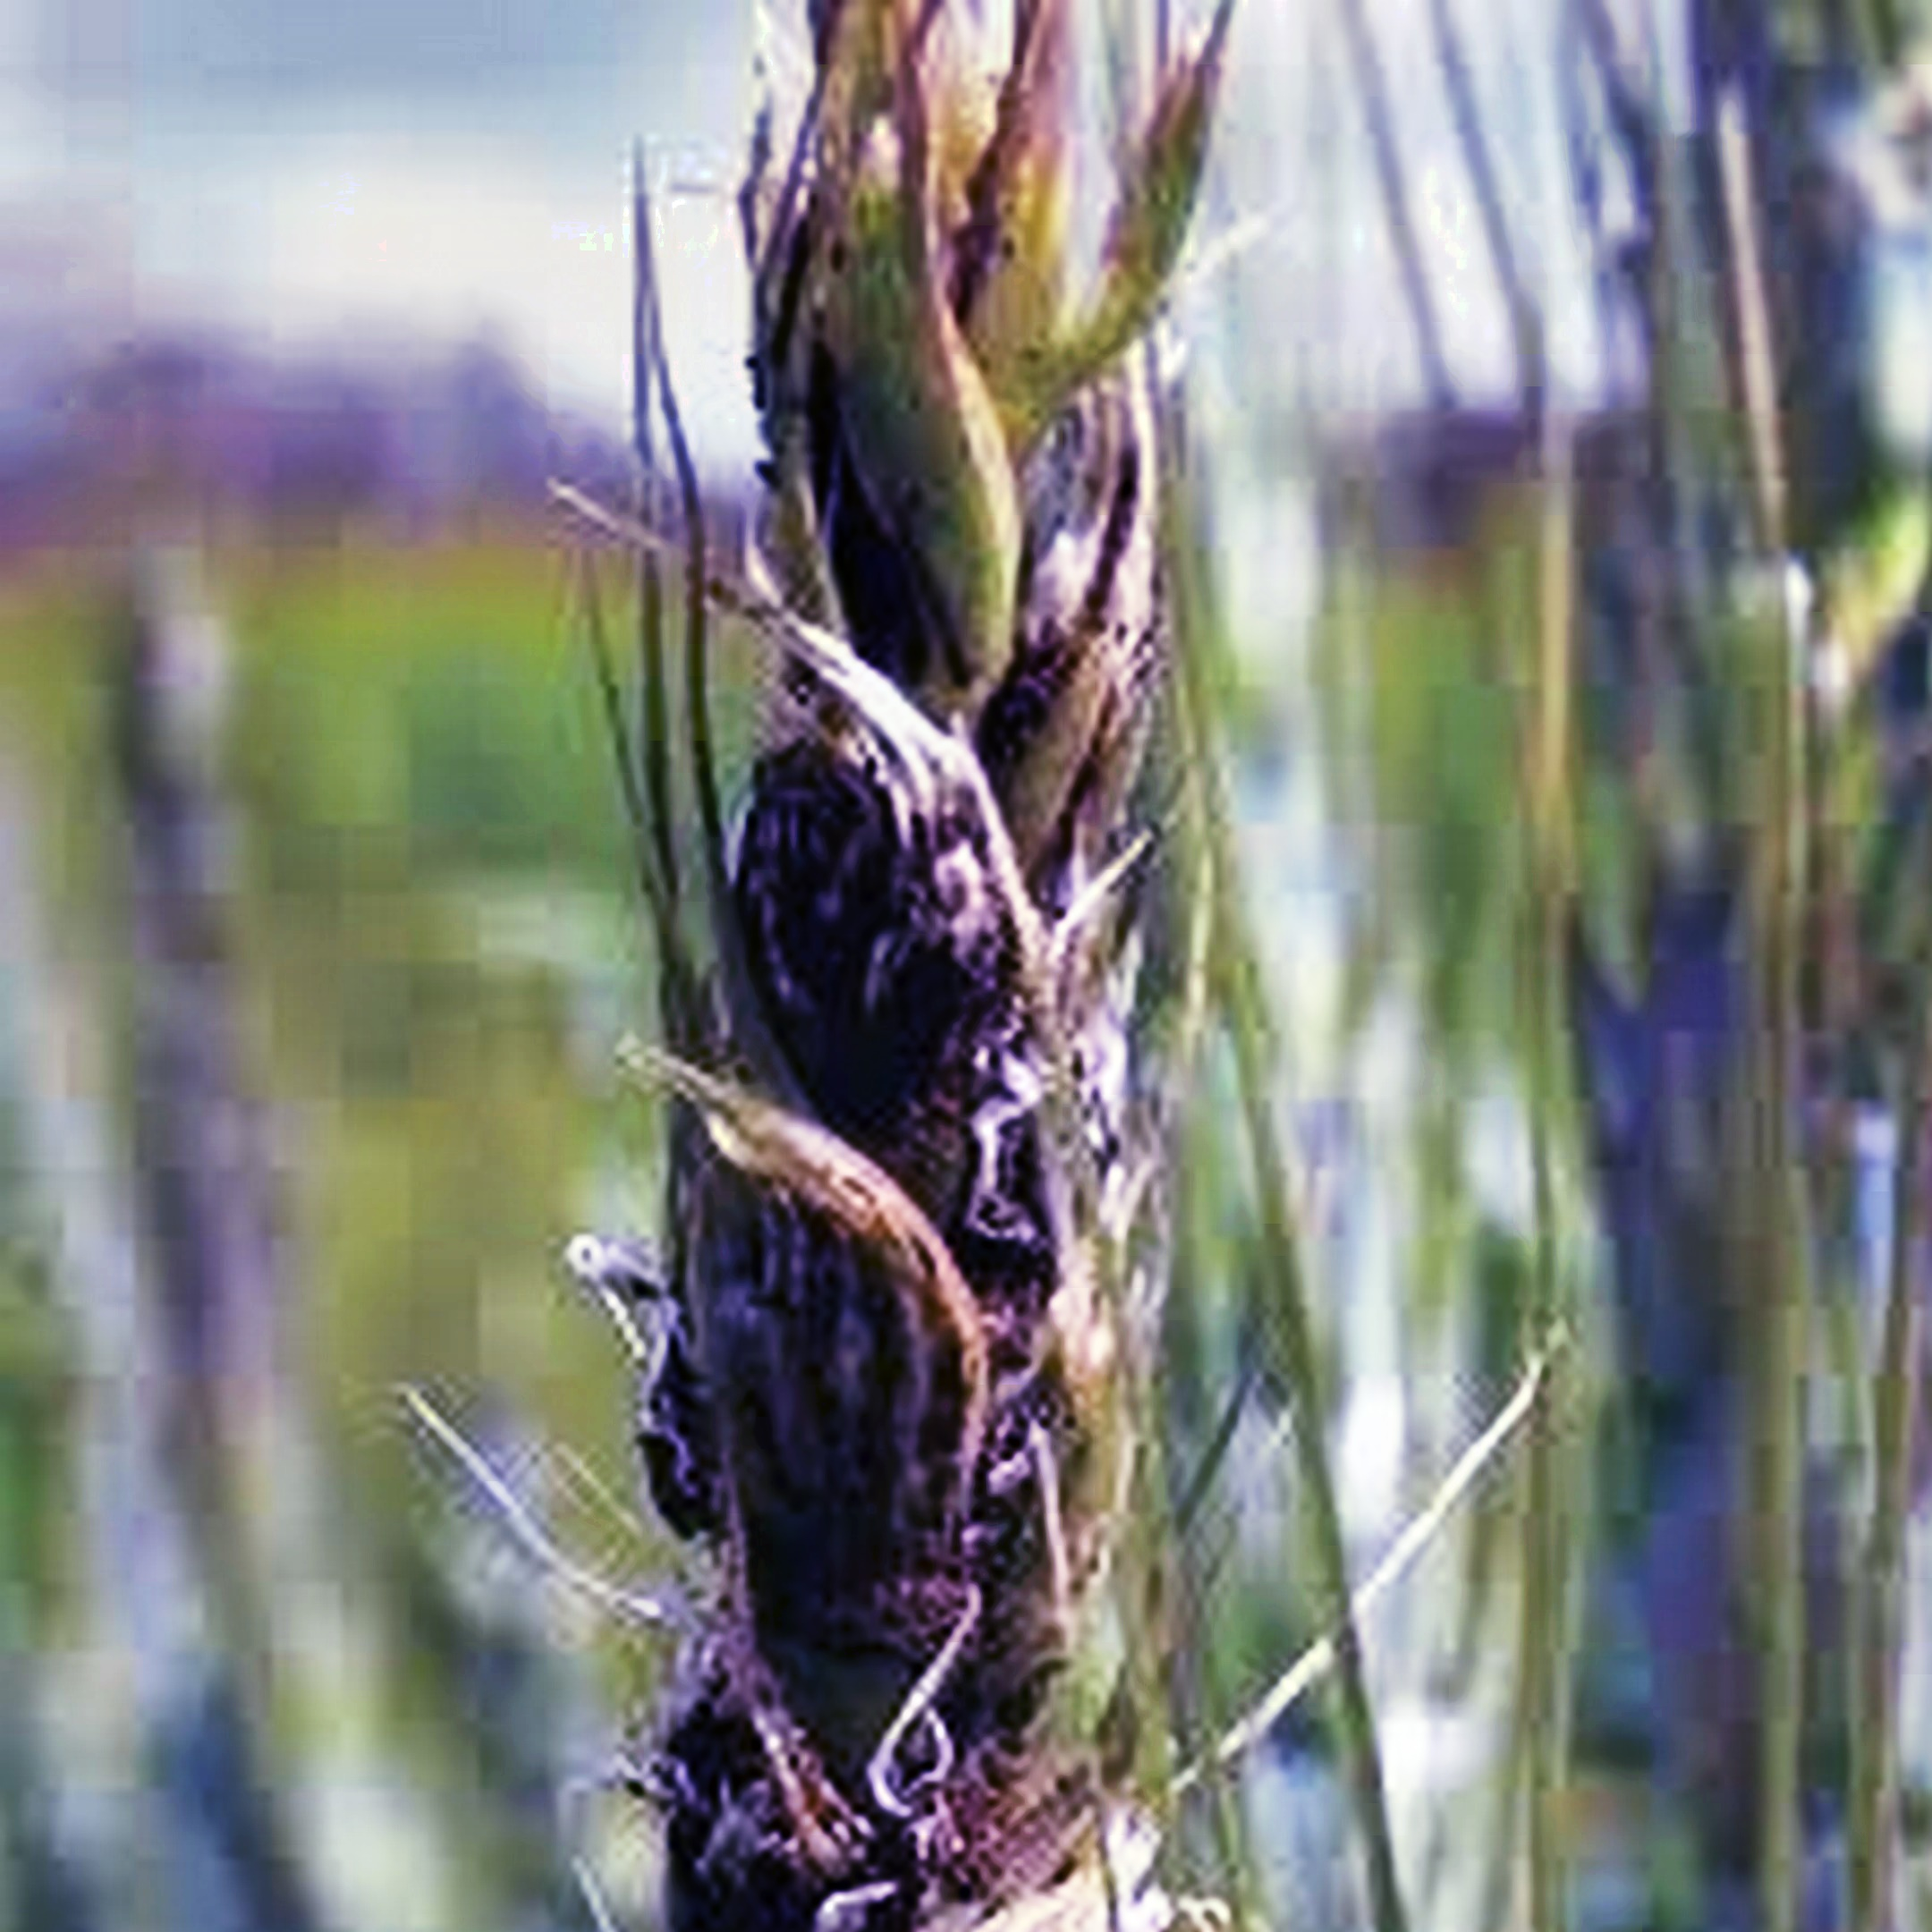Wheat Loose Smut: (536, 216, 1258, 1858)
